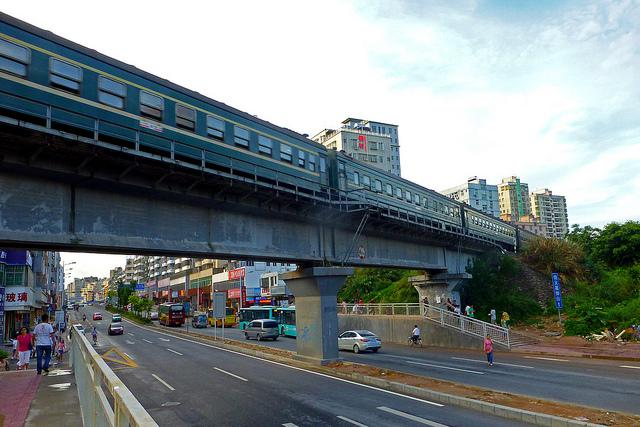Train: (0, 12, 549, 247)
